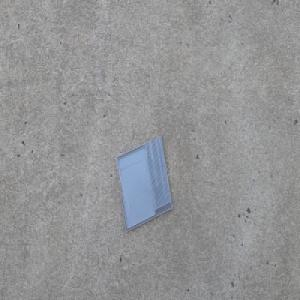PlasticPart: (115, 134, 173, 232)
